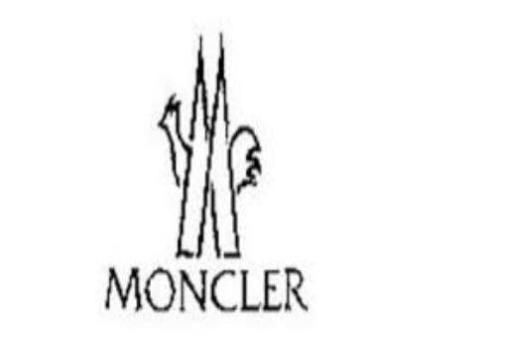MONCLER: (157, 28, 263, 261), (103, 263, 313, 315)
